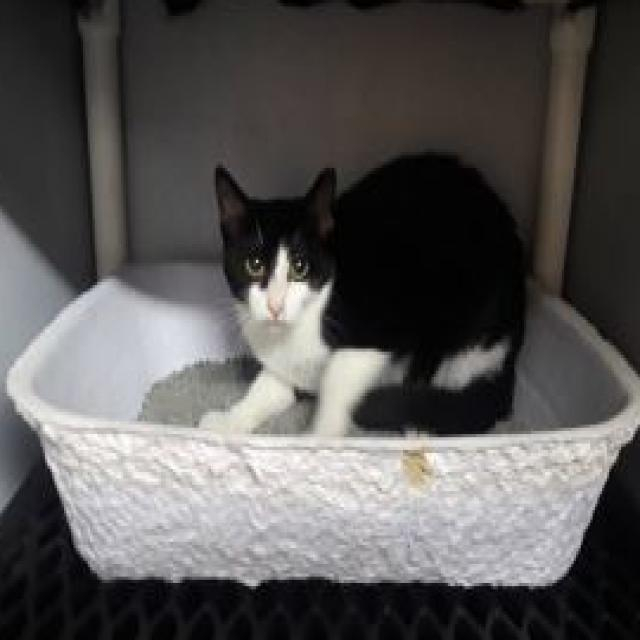Tuxedo: (190, 138, 530, 439)
